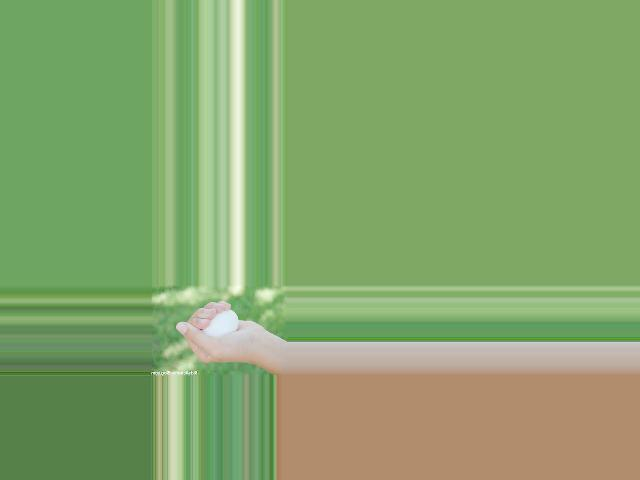egg: (201, 309, 237, 337)
